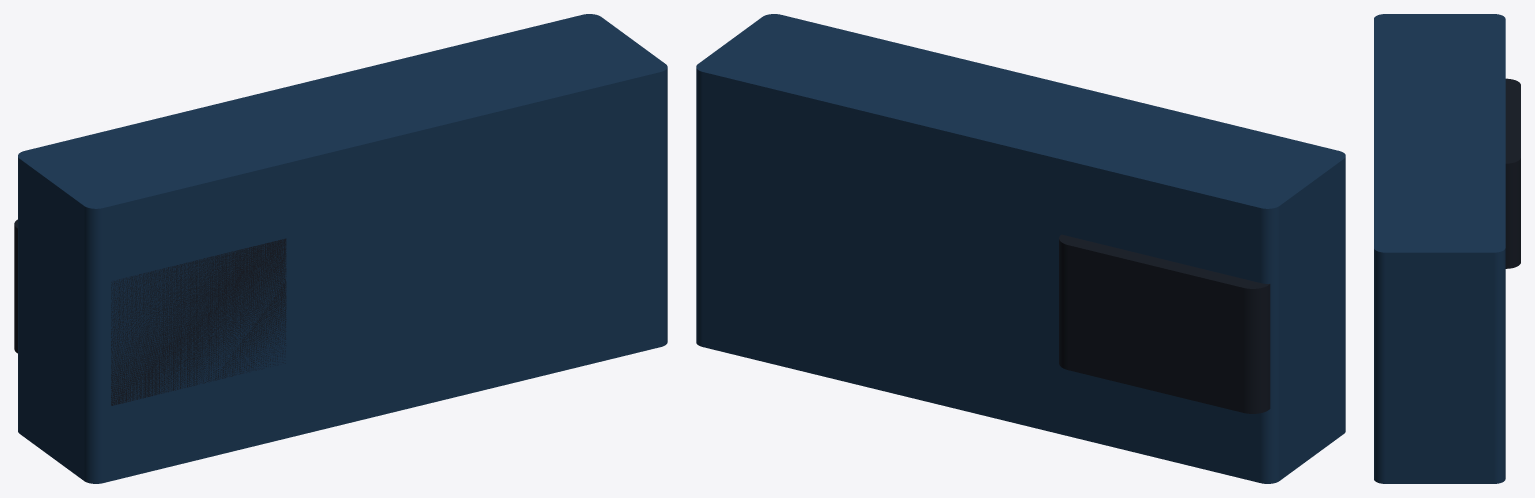
File: HR30_robot_eight_branch_distributor_candidate.glb
3 renders of one model, left to right at view 1: azimuth 30°, elevation 25°; view 2: azimuth 150°, elevation 25°; view 3: azimuth 270°, elevation 25°, orthographic. The views are drawn at different scales.
Parts seen in each view (by area): view 1: INSULATED_DISTRIBUTION_ENCLOSURE, XT1B_SBS75G; view 2: INSULATED_DISTRIBUTION_ENCLOSURE, XT1B_SBS75G; view 3: INSULATED_DISTRIBUTION_ENCLOSURE, XT1B_SBS75G.
Boxes of the visible parts, bbox=[...] form: INSULATED_DISTRIBUTION_ENCLOSURE: bbox=[18, 14, 667, 483]; XT1B_SBS75G: bbox=[14, 219, 286, 405]; INSULATED_DISTRIBUTION_ENCLOSURE: bbox=[696, 14, 1345, 483]; XT1B_SBS75G: bbox=[1059, 234, 1270, 413]; INSULATED_DISTRIBUTION_ENCLOSURE: bbox=[1374, 14, 1505, 483]; XT1B_SBS75G: bbox=[1505, 78, 1520, 268].
Size of the model in its own units: 146 by 66 by 38.
